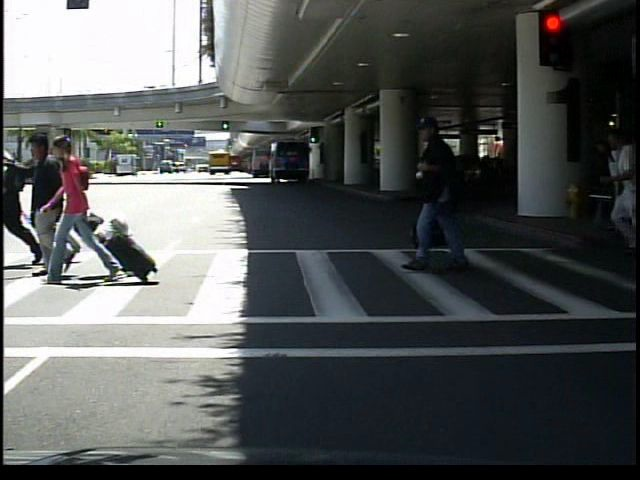person: (400, 112, 490, 274)
